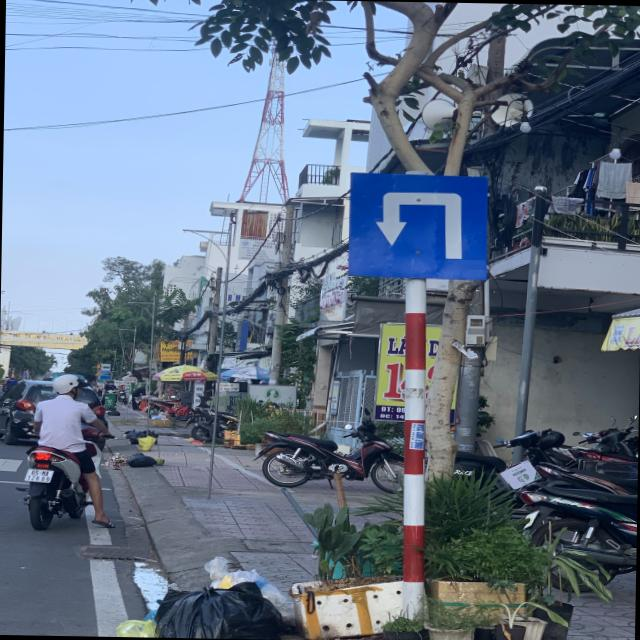Den_Giao_Thong: (349, 172, 486, 280)
